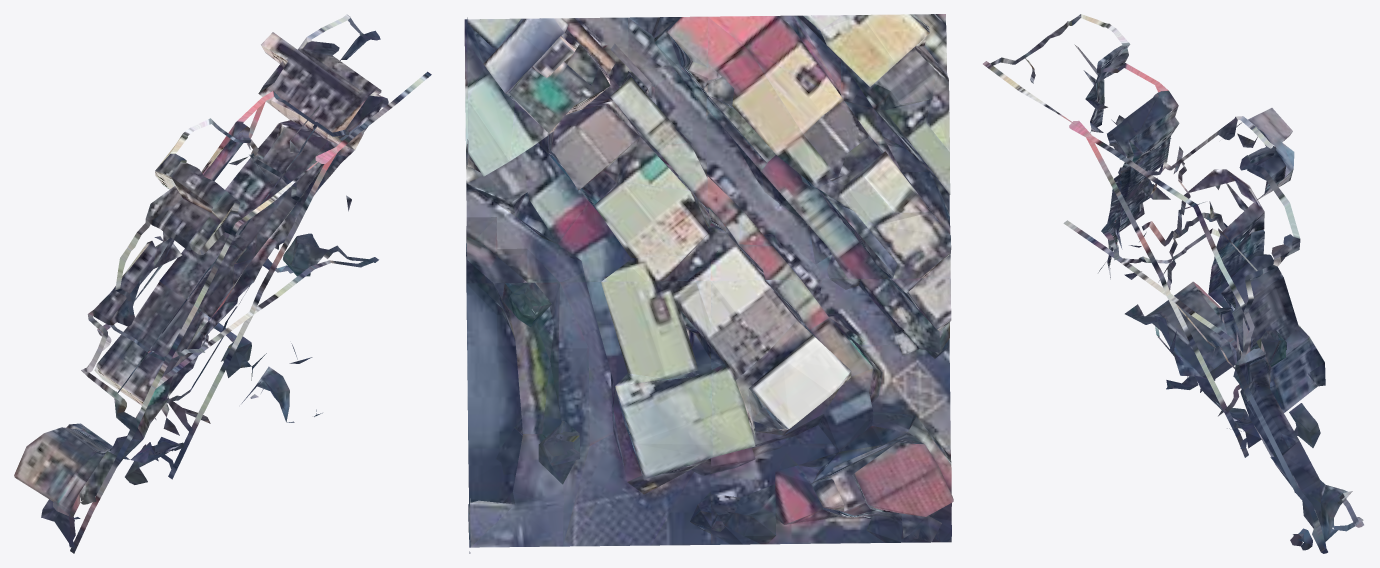
3 views of the same model, side by side, from view 1: azimuth 30°, elevation 25°; view 2: azimuth 150°, elevation 25°; view 3: azimuth 270°, elevation 25° (orthographic). The views are drawn at different scales.
Bounding box in the file's own units: 81.92 × 80.61 × 66.17.
Materials: 1 (1 with a texture image).
